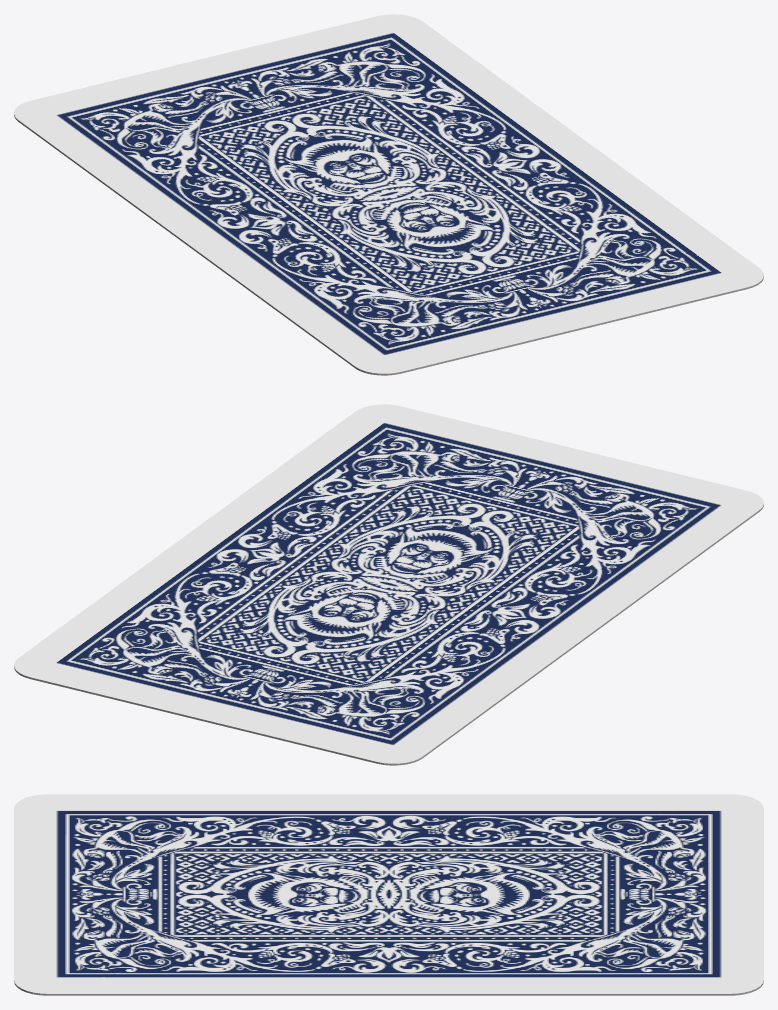
File: Karte_Test.glb
The picture shows the model from 3 angles, top to bottom: view 1: azimuth 30°, elevation 25°; view 2: azimuth 150°, elevation 25°; view 3: azimuth 270°, elevation 25°; orthographic projection.
Parts seen in each view (by area): view 1: Card_test; view 2: Card_test; view 3: Card_test.
Boxes of the visible parts, <box> form: Card_test: <box>14,14,763,375</box>; Card_test: <box>14,404,763,765</box>; Card_test: <box>14,794,763,995</box>.
Bounding box in the file's own units: 0.056 × 0.00024 × 0.0889.
Materials: 3 (2 with a texture image).
